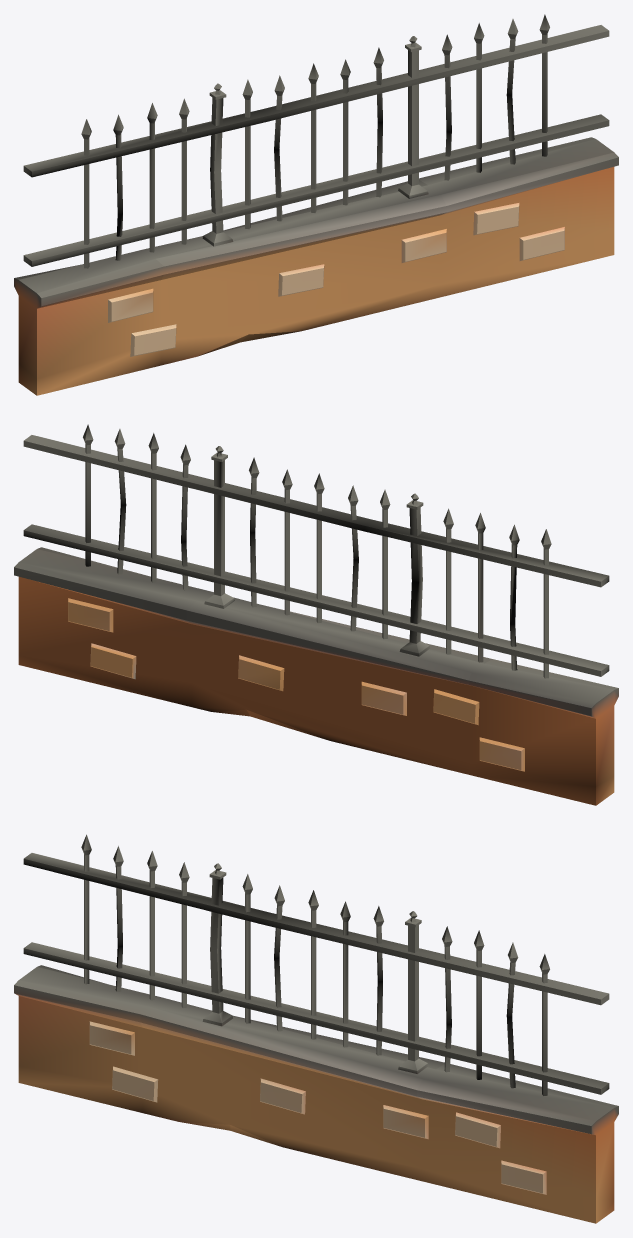
Rendered from Fence Vertex4.fbx.
3 views of the same model, one above another, from view 1: azimuth 30°, elevation 25°; view 2: azimuth 150°, elevation 25°; view 3: azimuth 330°, elevation 25° (orthographic).
Parts seen in each view (by area): view 1: SM_Env_Fence_01; view 2: SM_Env_Fence_01; view 3: SM_Env_Fence_01.
Boxes of the visible parts, bbox=[...] form: SM_Env_Fence_01: bbox=[14, 14, 618, 395]; SM_Env_Fence_01: bbox=[14, 424, 618, 805]; SM_Env_Fence_01: bbox=[14, 834, 618, 1223].
Size of the model in its own units: 1266 by 542 by 113.
